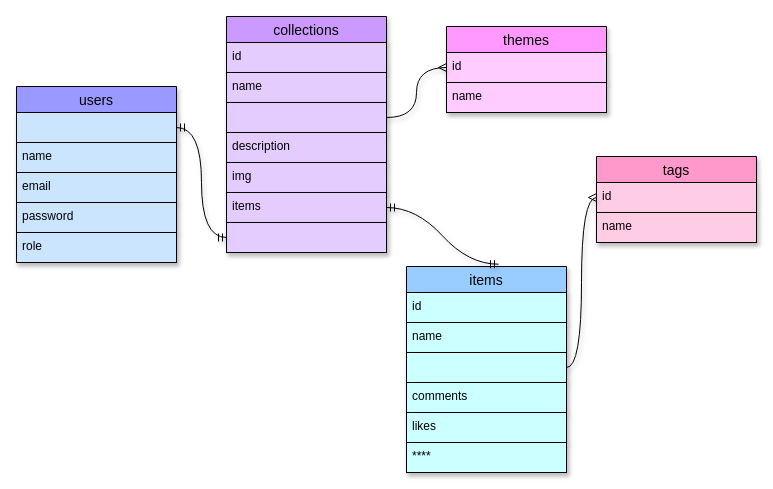
This 773x489 diagram has some shape labels left out. The shapes that lost their labels are listed below. From the top down, each one's centre as x and y in pixels, then its label:
At [97,129]: "user_id".
At [307,119]: "theme_id".
At [307,239]: "author_id".
At [487,369]: "tags_id".
